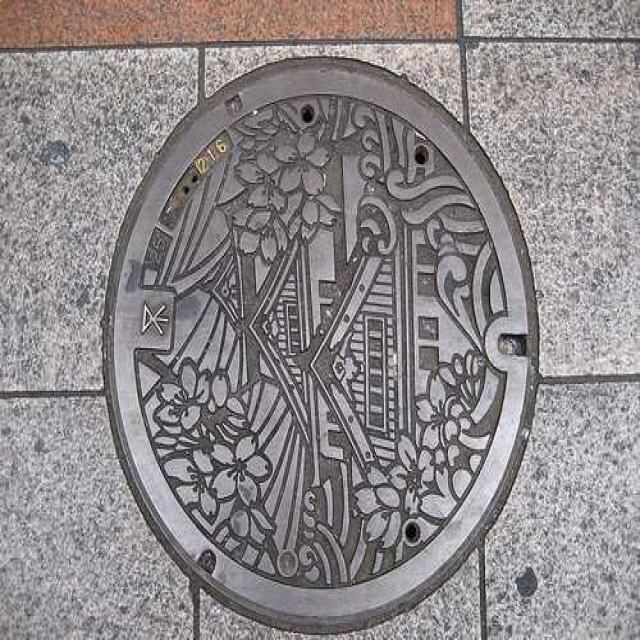manhole: (101, 60, 540, 635)
